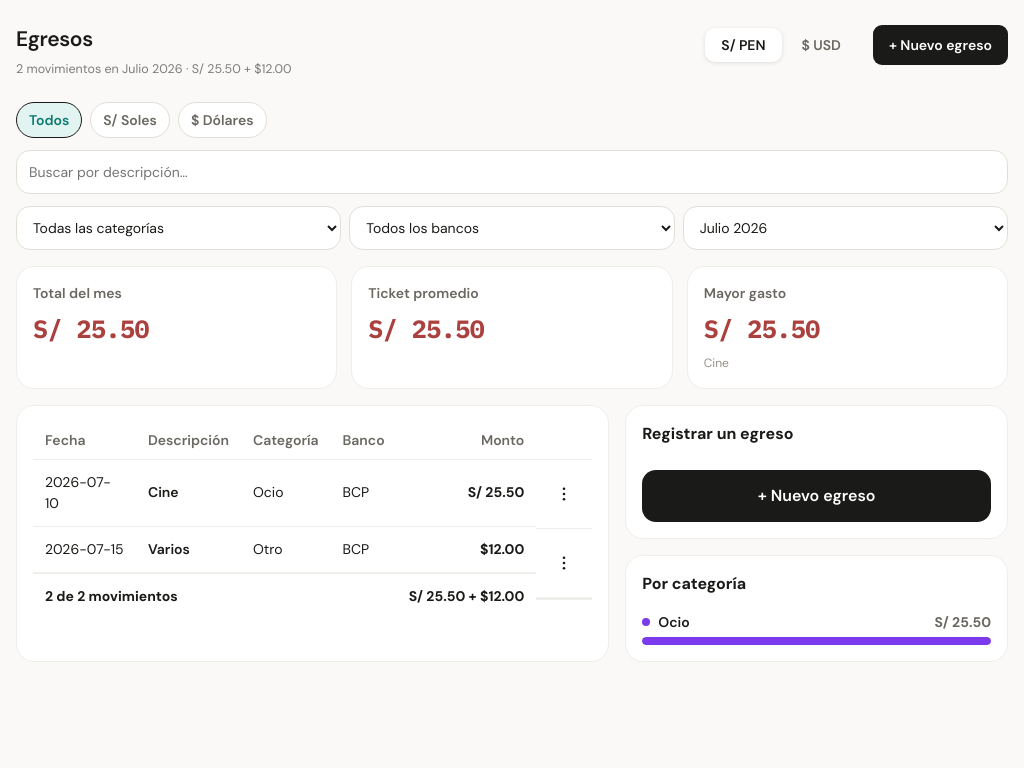
Test: HistorialView — tabla, filtros y stat cards (rediseño "Caudal", Fase 2) › filtro por mes: elegir "2026-06" deja solo el gasto de ese mes
The width and height of the screenshot is (1024, 768).
Select "Junio 2026" in the dropdown named "Filtrar por mes". click: coordinates (845, 228)
box: [683,206,1008,250]
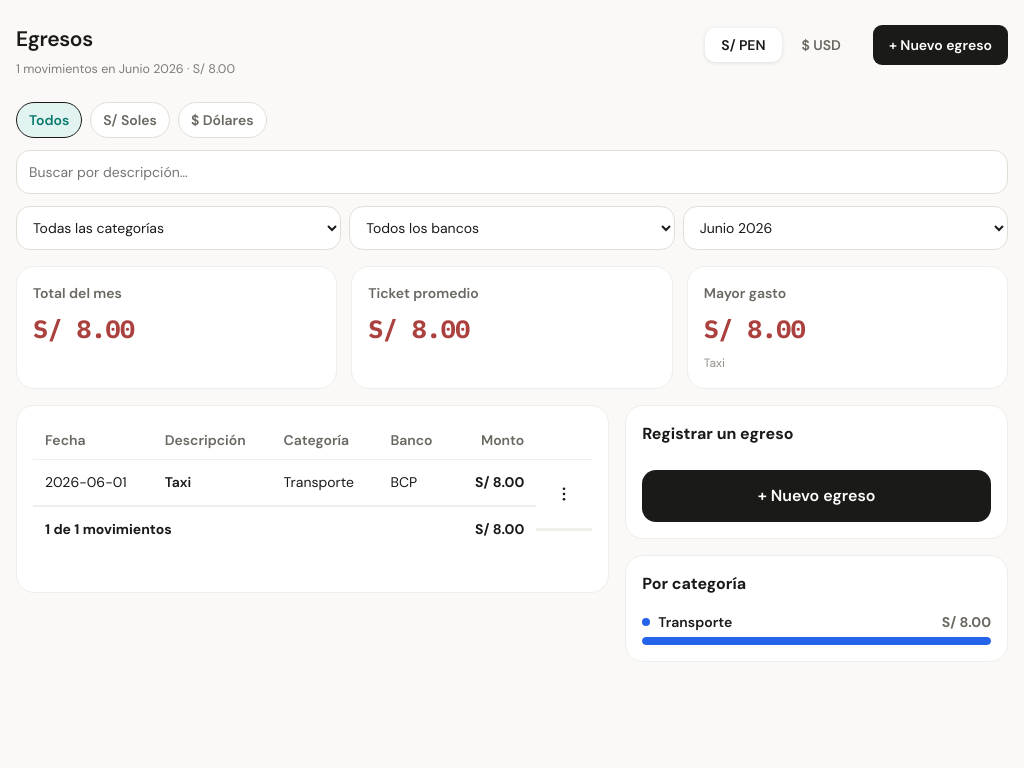
expect the row "2026-06-01 Taxi Transporte BCP S/ 8.00" is shown: met, box [33,459,536,506]
